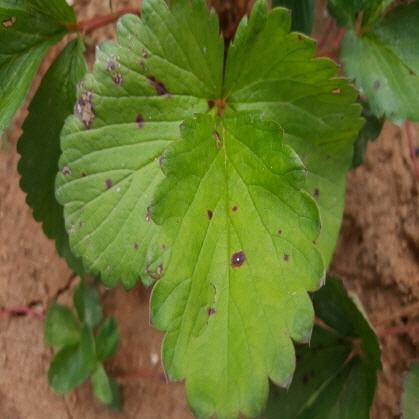Leaf Spot: (144, 104, 325, 418), (54, 0, 225, 292), (223, 0, 368, 282), (336, 2, 418, 128)
